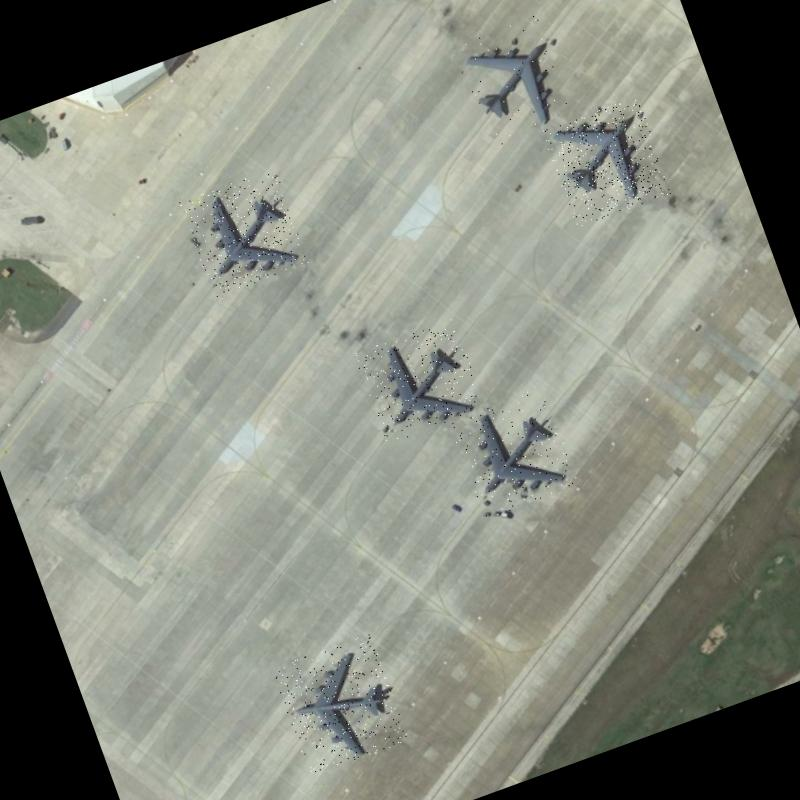A8: (271, 632, 409, 776), (448, 386, 579, 520), (178, 166, 310, 297), (542, 96, 672, 228), (450, 12, 576, 148), (353, 317, 486, 445)
